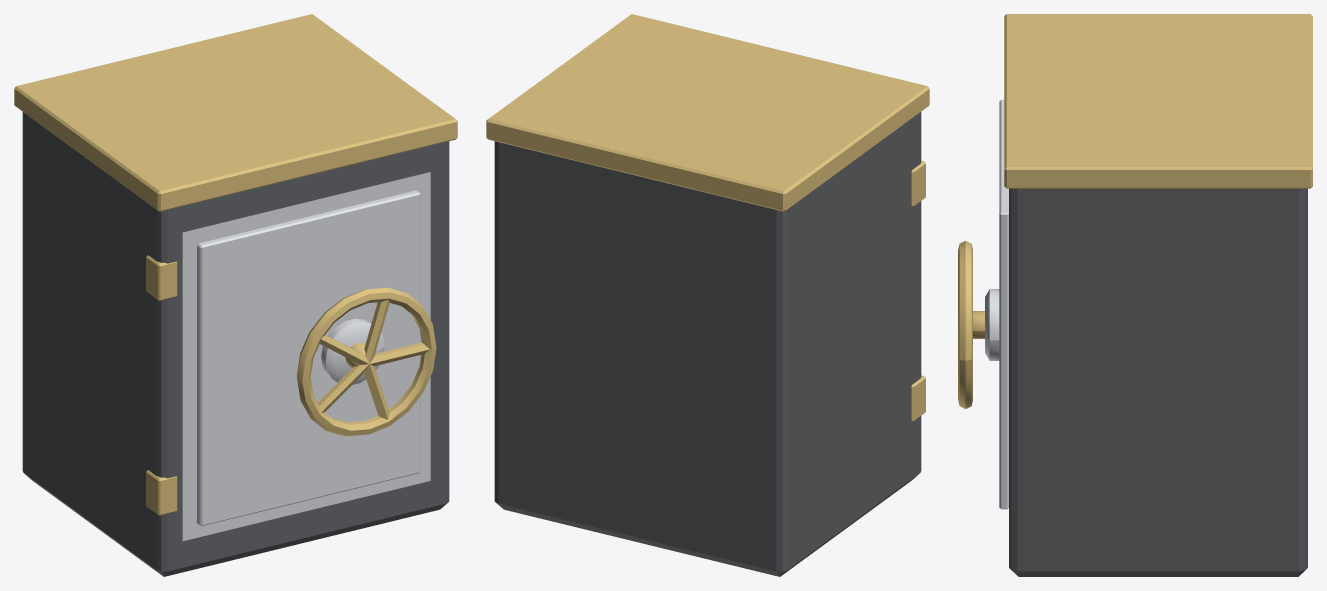
The model's file is escape-room-and-puzzle-venue-safe-with-spoked-handle-215e1ff4__35798.glb.
3 renders of one model, left to right at view 1: azimuth 30°, elevation 25°; view 2: azimuth 150°, elevation 25°; view 3: azimuth 270°, elevation 25°, orthographic. The views are drawn at different scales.
Parts seen in each view (by area): view 1: safe-with-spoked-handle, door, handle; view 2: safe-with-spoked-handle; view 3: safe-with-spoked-handle, door, handle.
Boxes of the visible parts, x1,y1,x2,y2 form: safe-with-spoked-handle: [14, 14, 457, 576]; door: [182, 172, 430, 541]; handle: [296, 287, 436, 436]; safe-with-spoked-handle: [486, 14, 929, 576]; safe-with-spoked-handle: [1004, 14, 1312, 576]; door: [985, 99, 1008, 509]; handle: [958, 240, 984, 408].
Size of the model in its own units: 0.76 by 0.95 by 0.7356.
